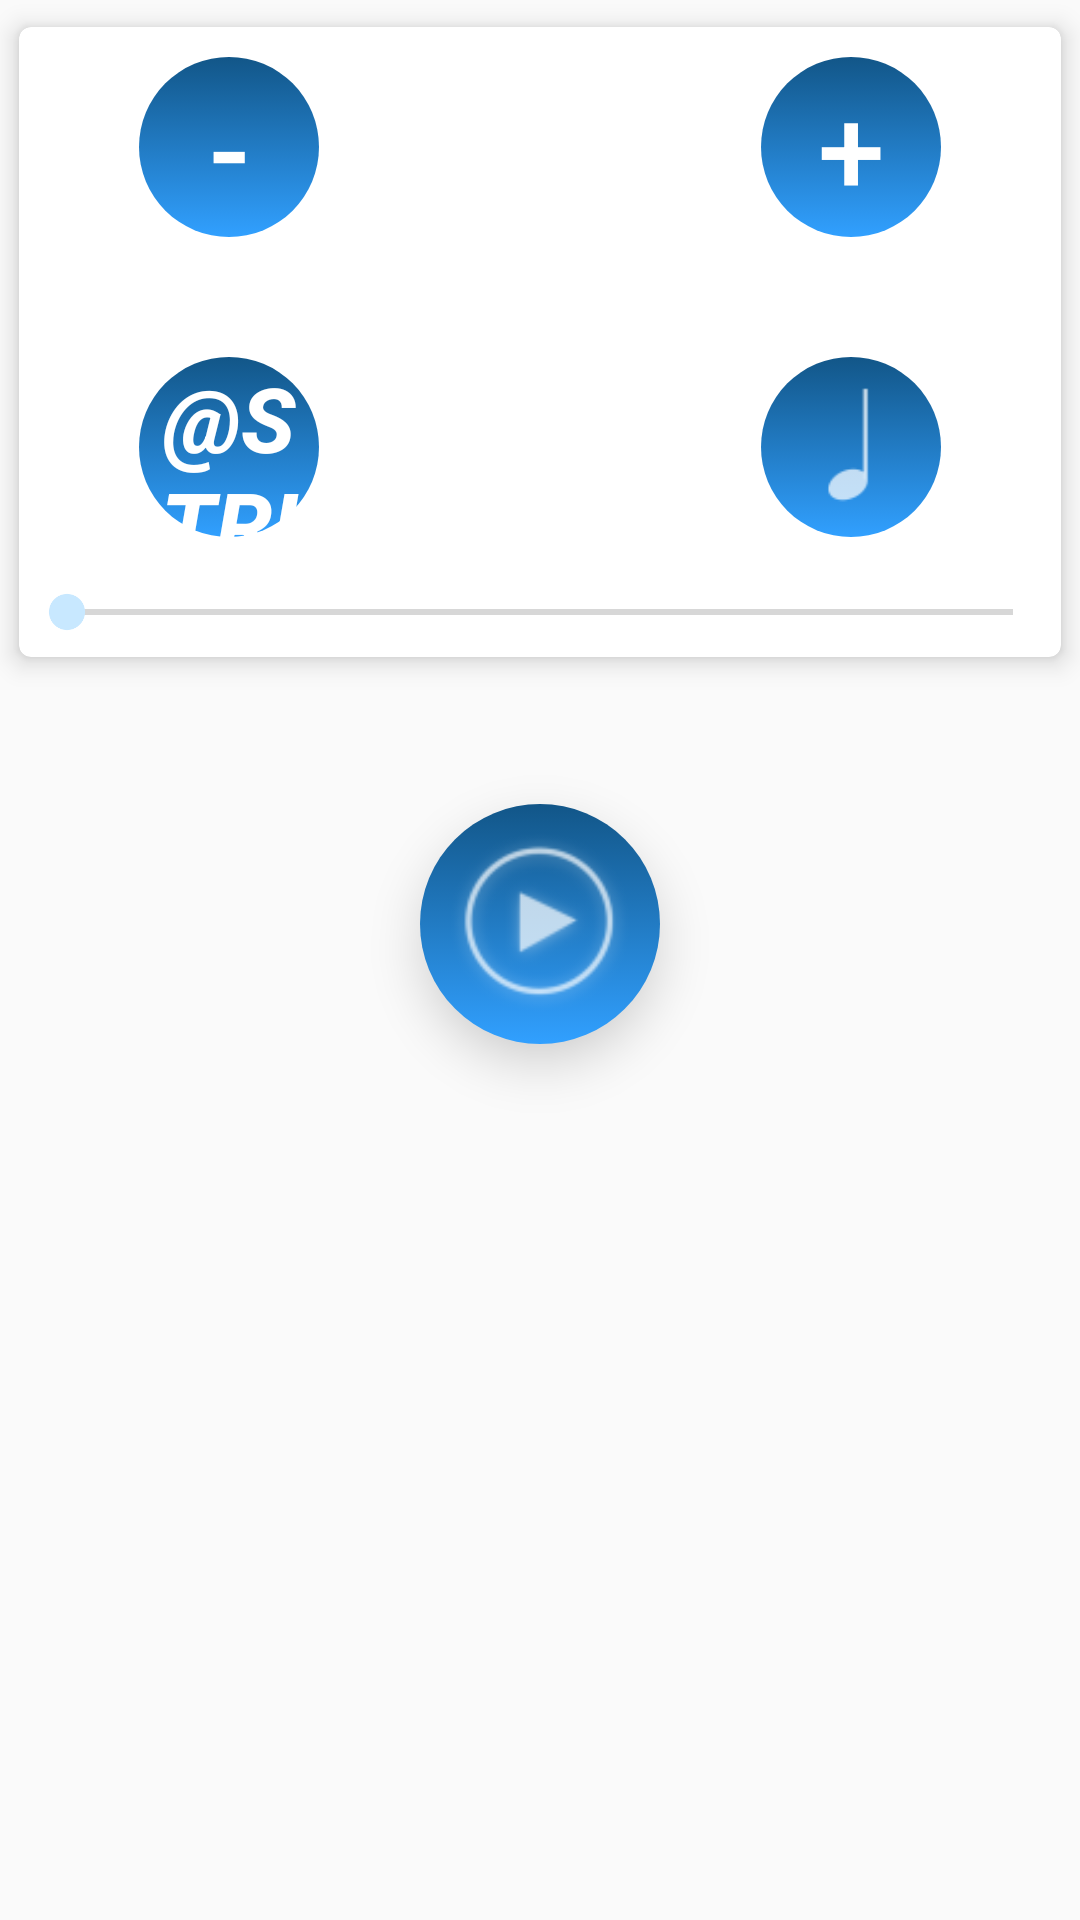

Where to tap for icons on this 1080w x 1920h app screen, as point (x, y):
play: point (540, 924)
quarter: point (851, 447)
